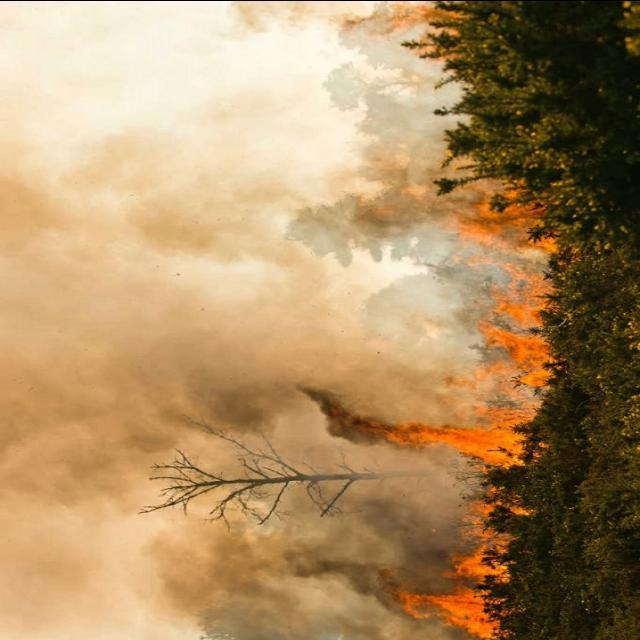Fire: (415, 175, 567, 628)
